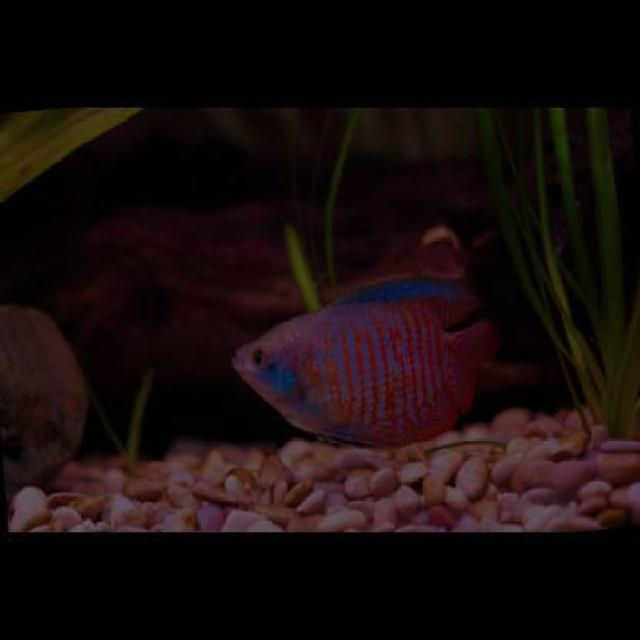Gourami: (231, 273, 498, 450)
